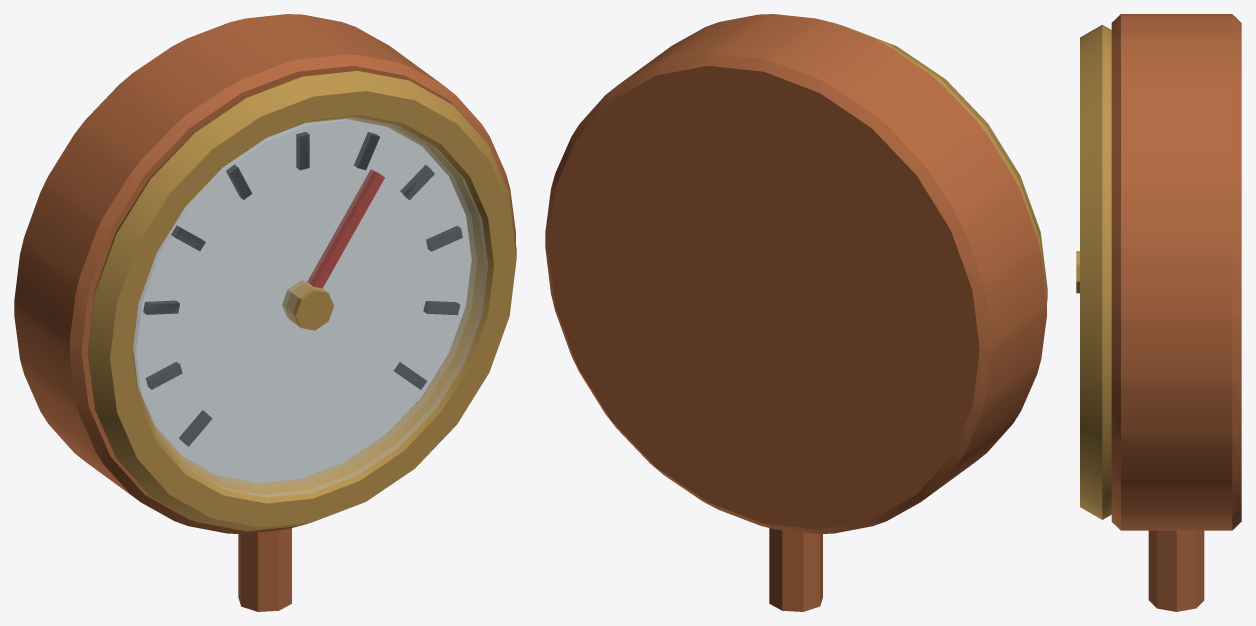
The model's file is instrument_pressure_meter.glb.
The picture shows the model from 3 angles, left to right: view 1: azimuth 30°, elevation 25°; view 2: azimuth 150°, elevation 25°; view 3: azimuth 270°, elevation 25°; orthographic projection.
Parts seen in each view (by area): view 1: instrument_pressure_meter; view 2: instrument_pressure_meter; view 3: instrument_pressure_meter.
Part boxes in pixels (bbox=[...]): instrument_pressure_meter: bbox=[14, 14, 516, 611]; instrument_pressure_meter: bbox=[545, 14, 1047, 611]; instrument_pressure_meter: bbox=[1076, 14, 1241, 611].
Bounding box in the file's own units: 0.2787 × 0.3343 × 0.089.
